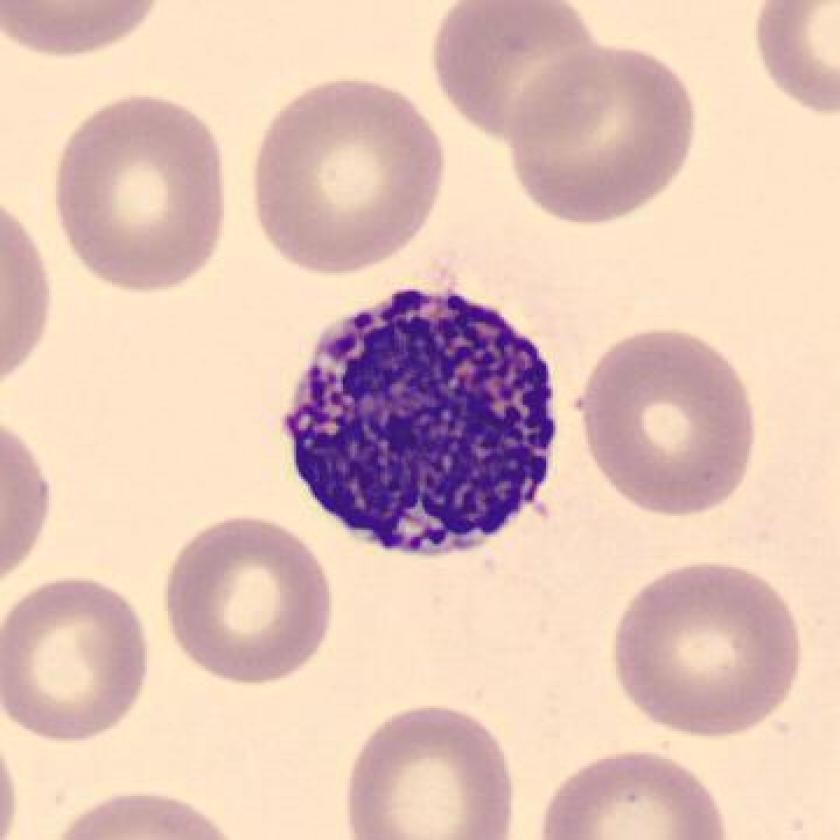basophil: (281, 276, 573, 566)
